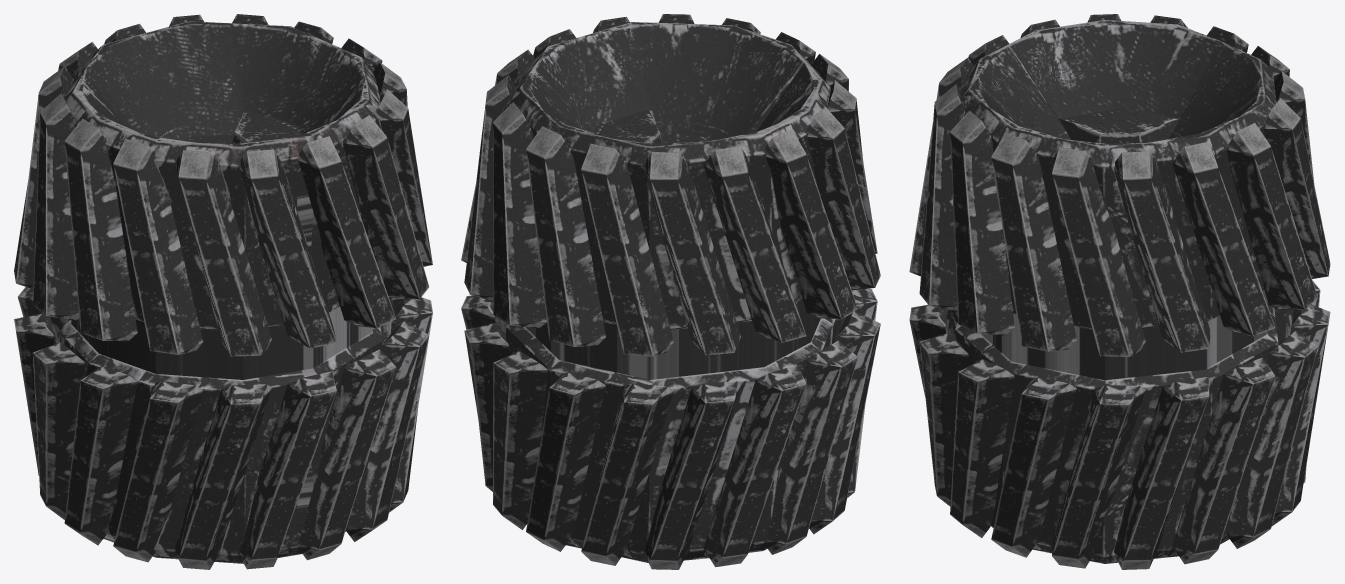
Rendered from ME_huge_wheel.fbx.
3 renders of one model, left to right at view 1: azimuth 30°, elevation 25°; view 2: azimuth 150°, elevation 25°; view 3: azimuth 270°, elevation 25°, orthographic.
Parts seen in each view (by area): view 1: ME_huge_wheel; view 2: ME_huge_wheel; view 3: ME_huge_wheel.
Part boxes in pixels (<box>): ME_huge_wheel: <box>14,14,432,569</box>; ME_huge_wheel: <box>461,14,880,569</box>; ME_huge_wheel: <box>909,14,1330,569</box>.
Bounding box in the file's own units: 115 × 125 × 115.
